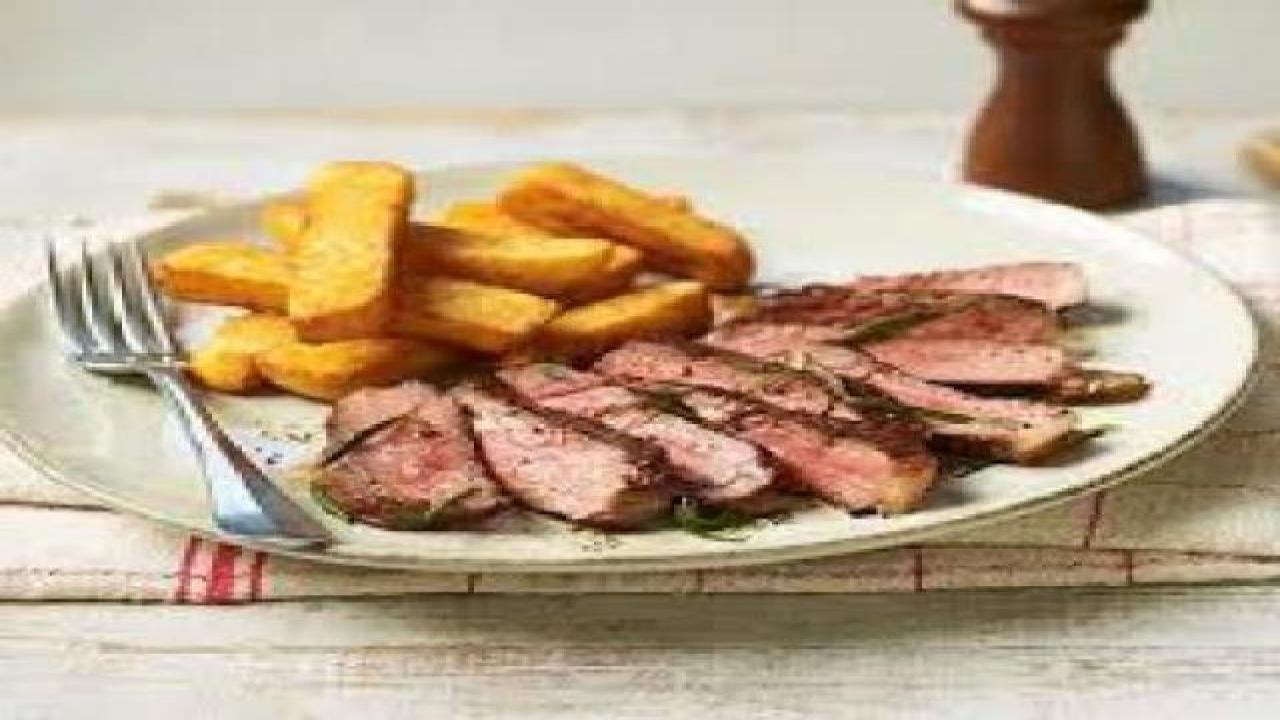Carne: (322, 253, 1151, 568)
